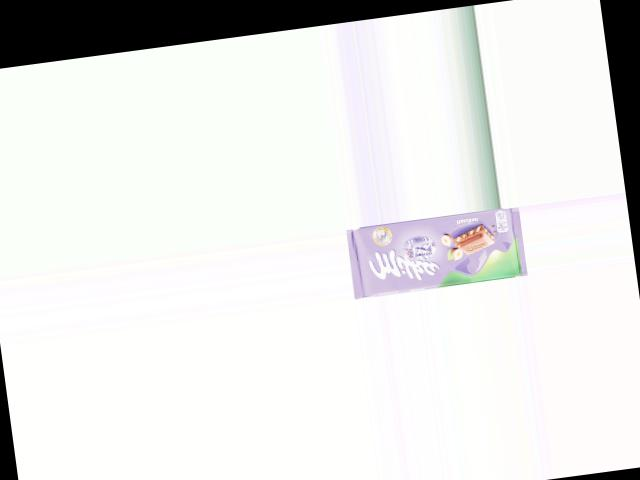chocolate: (345, 205, 528, 298)
